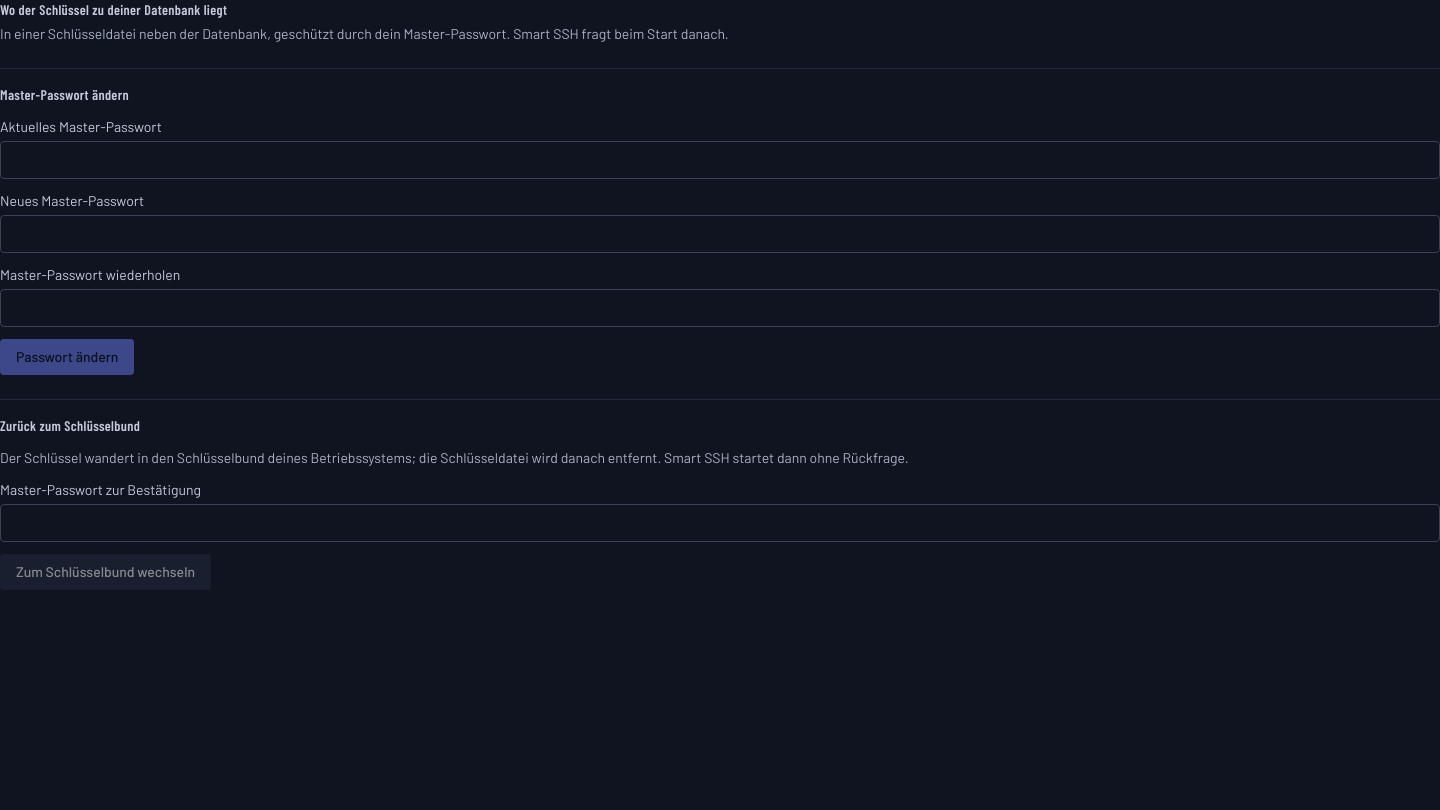
MasterPasswordSettings › fragt vor dem Überschreiben eines fremden Schlüssels und lässt ohne Bestätigung alles, wie es war (Klarstellung 10b)
Step 1. Type "Passwort-0101-lang" into the password field labelled "Master-Passwort zur Bestätigung" → (720, 523), box [0,504,1439,542]
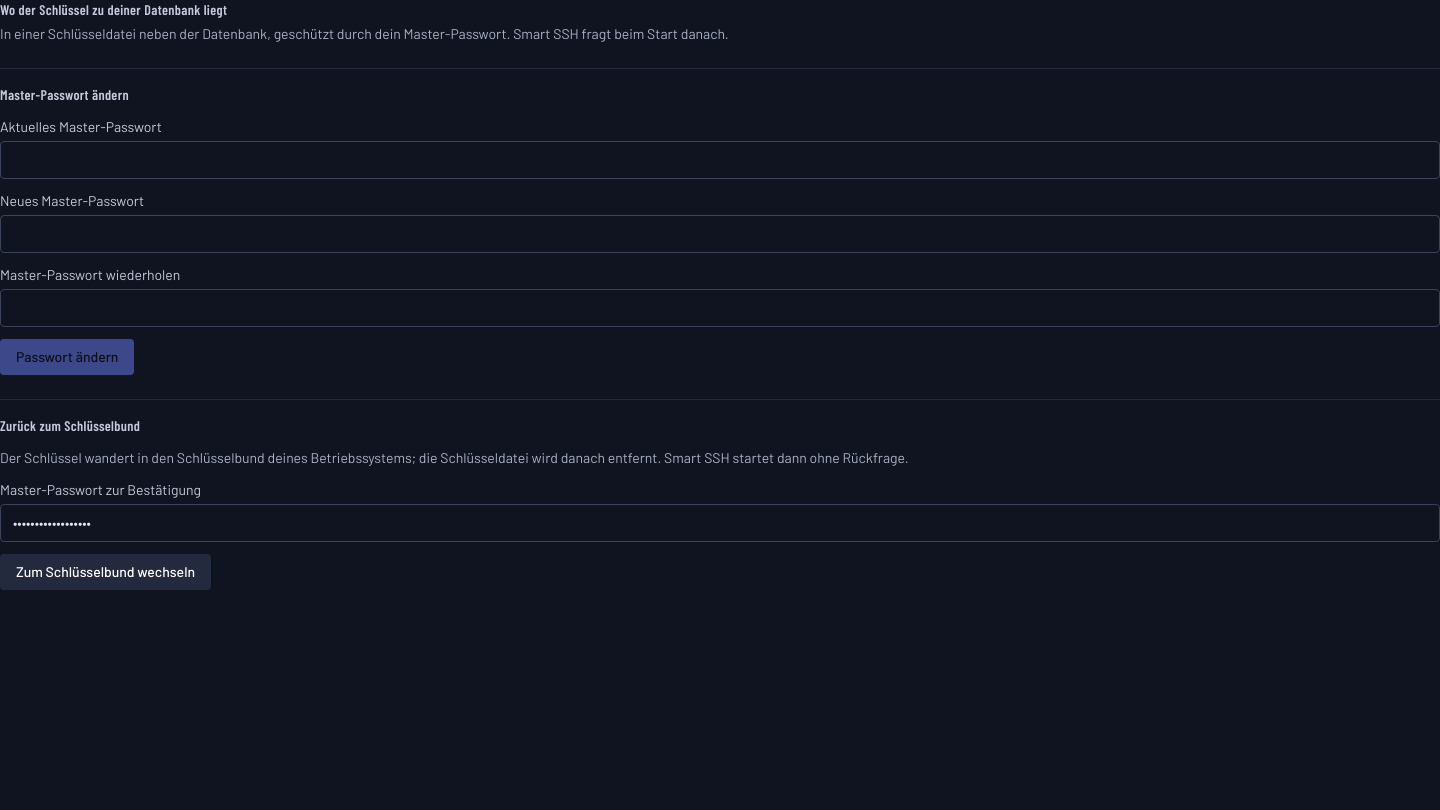
Step 2. Click the button "Zum Schlüsselbund wechseln" → click(106, 572), box [0,554,211,590]
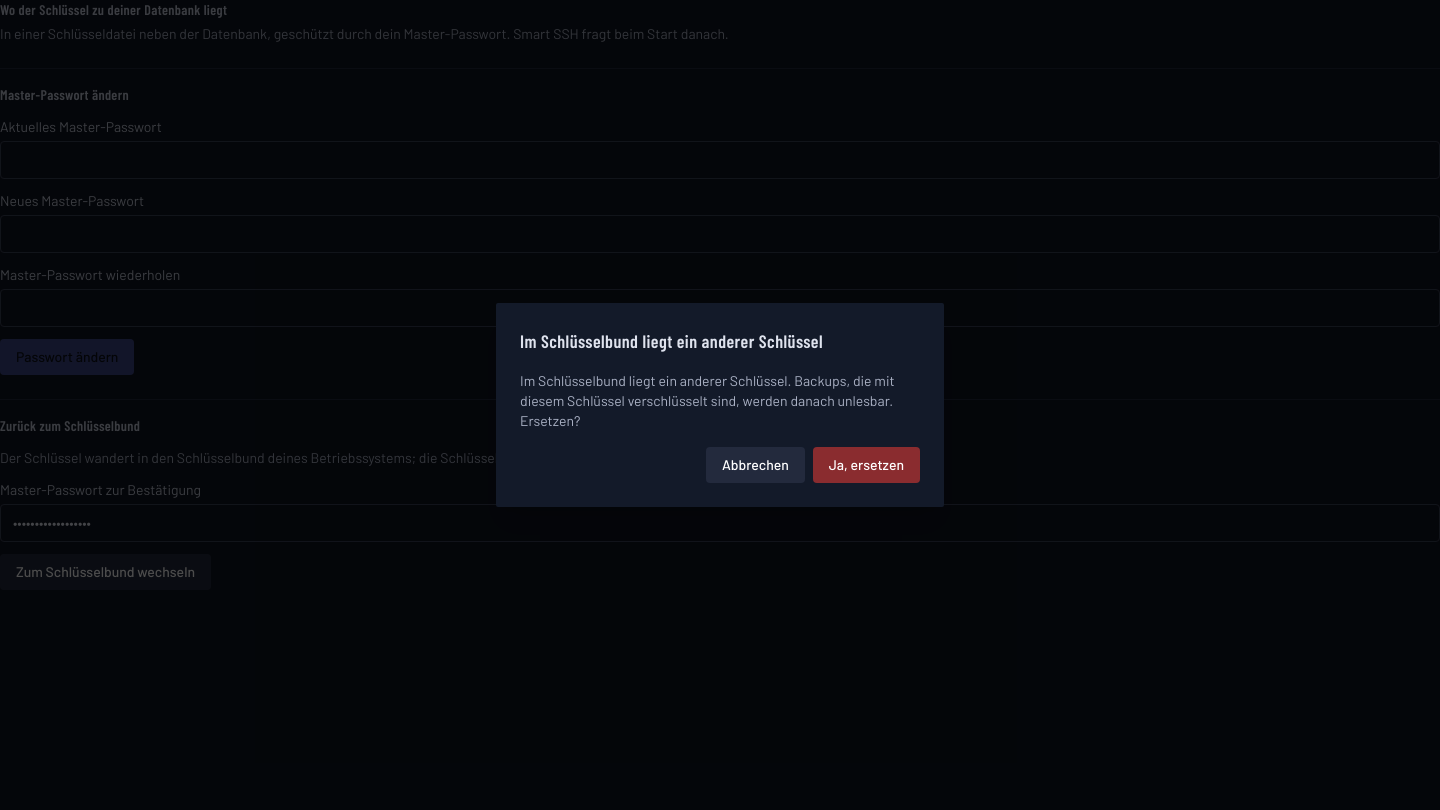
Check: the text "Backups, die mit diesem Schlüssel" is shown, box [520,372,895,429]
Step 3. Click the button "Abbrechen" → click(755, 465), box [706,447,805,483]
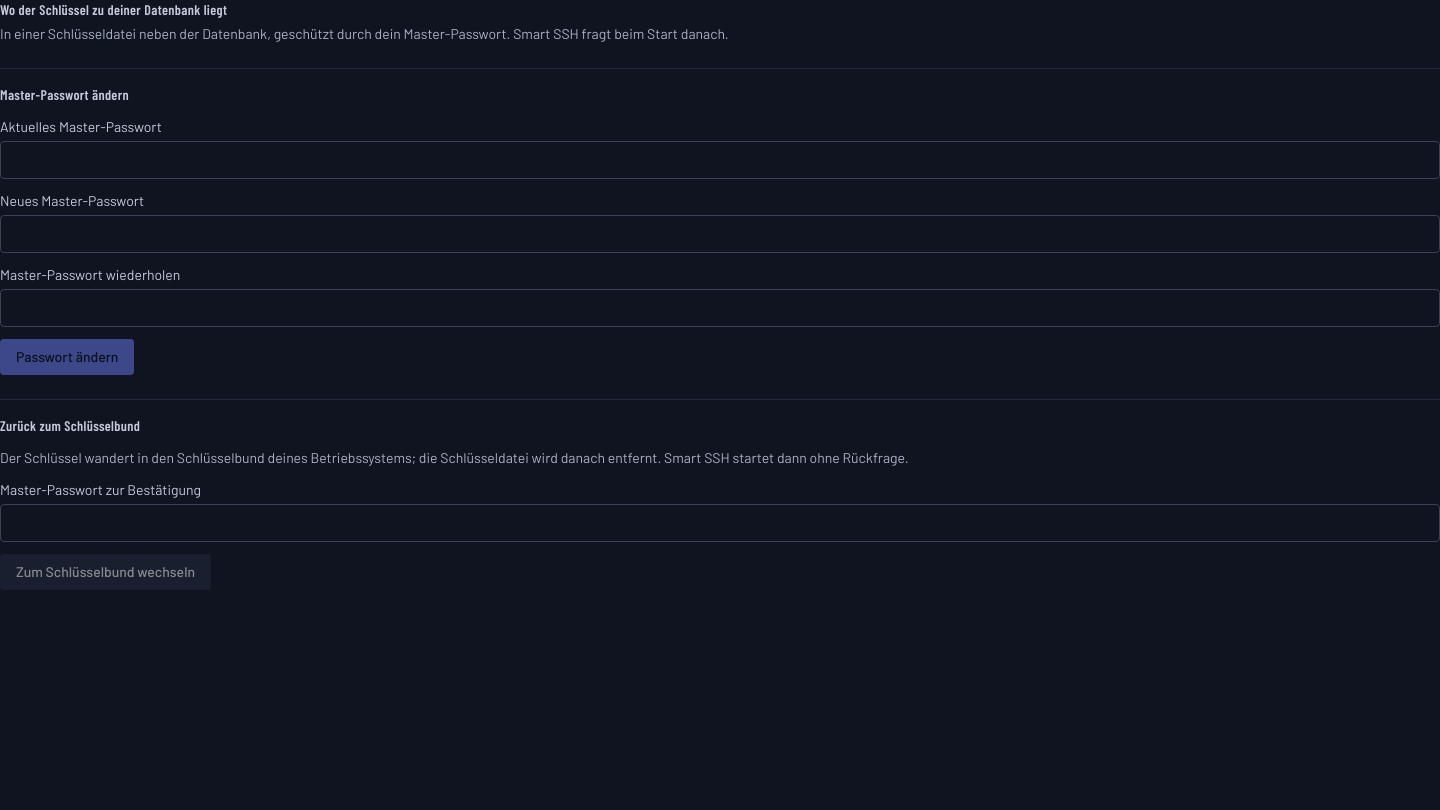
Check: the text "Backups, die mit diesem Schlüssel" is gone
